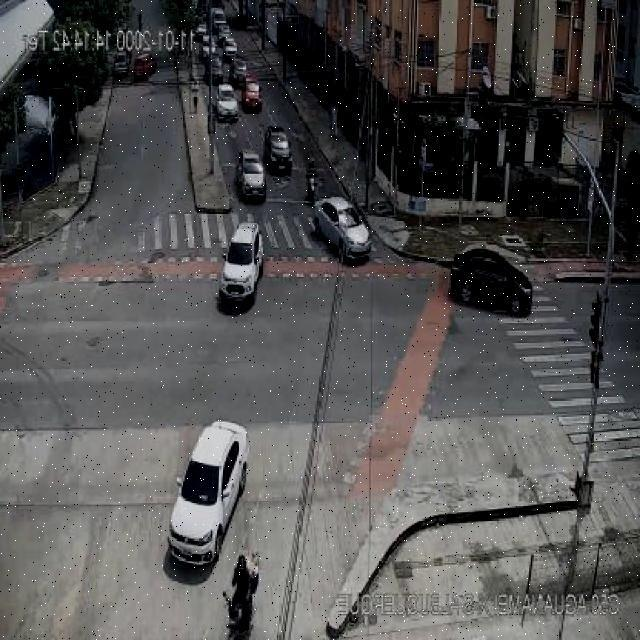Car: (160, 420, 250, 562), (447, 247, 539, 314), (306, 193, 374, 261), (219, 221, 265, 306), (234, 150, 266, 201), (263, 126, 292, 171), (215, 84, 239, 120), (112, 52, 130, 80), (222, 37, 238, 58), (195, 22, 207, 40)
